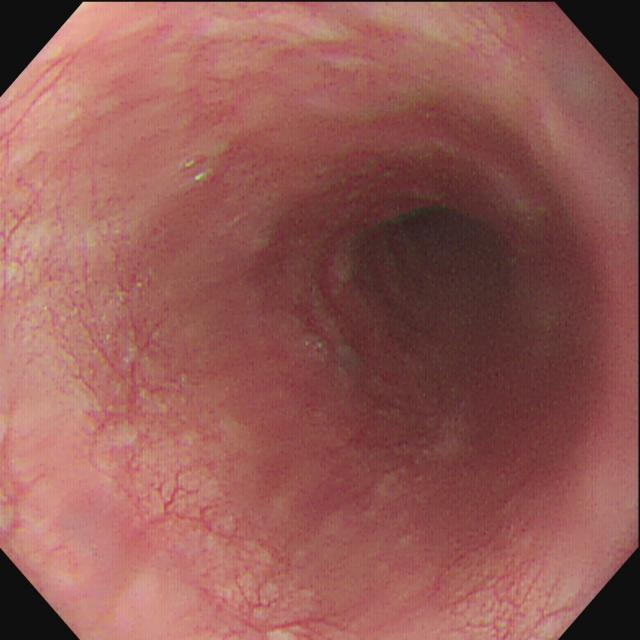E: (350, 187, 521, 360)
